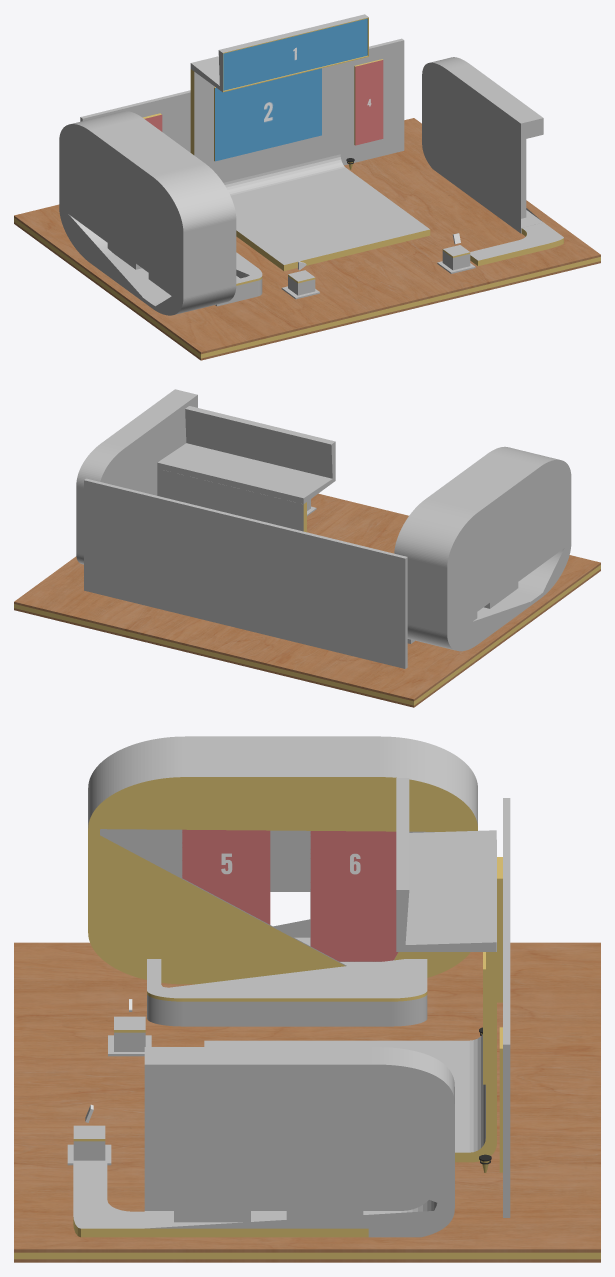
The model's file is stall P2.fbx.
3 renders of one model, top to bottom at view 1: azimuth 30°, elevation 25°; view 2: azimuth 150°, elevation 25°; view 3: azimuth 270°, elevation 25°, orthographic. The views are drawn at different scales.
Parts seen in each view (by area): view 1: black gradient, floor, 2, light layer, 1, 4; view 2: black gradient, floor, light layer; view 3: black gradient, floor, light layer, 6, 5.
Part boxes in pixels (x1=…): black gradient: x1=59, y1=14, x2=563, y2=315; floor: x1=14, y1=118, x2=600, y2=360; 2: x1=215, y1=68, x2=321, y2=161; light layer: x1=14, y1=17, x2=600, y2=358; 1: x1=223, y1=18, x2=367, y2=90; 4: x1=355, y1=60, x2=383, y2=145; black gradient: x1=76, y1=389, x2=571, y2=668; floor: x1=14, y1=493, x2=600, y2=707; light layer: x1=14, y1=502, x2=600, y2=705; black gradient: x1=67, y1=736, x2=510, y2=1237; floor: x1=14, y1=942, x2=600, y2=1262; light layer: x1=14, y1=777, x2=600, y2=1259; 6: x1=310, y1=831, x2=398, y2=961; 5: x1=182, y1=829, x2=270, y2=924.
Size of the model in its own units: 1449 by 635 by 1173.
